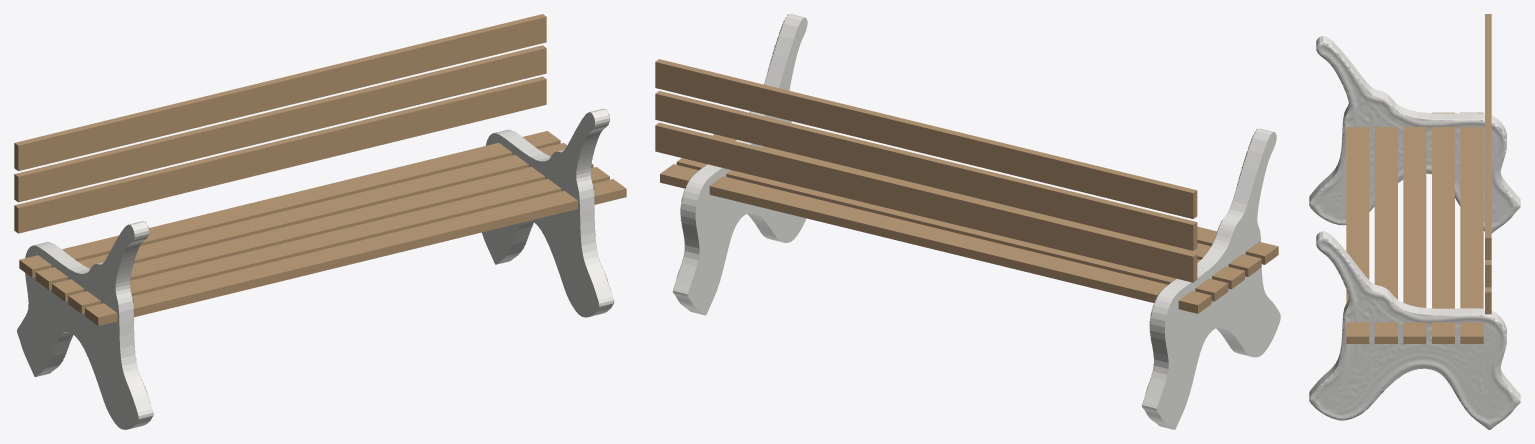
File: terilgan.glb
3 views of the same model, side by side, from view 1: azimuth 30°, elevation 25°; view 2: azimuth 150°, elevation 25°; view 3: azimuth 270°, elevation 25° (orthographic). The views are drawn at different scales.
Parts seen in each view (by area): view 1: Orqa2, Orqa0, Orqa1, t-1, Sed0, t1, Sed1, Sed4, Sed3, Sed2; view 2: Orqa0, Orqa1, Orqa2, t-1, Sed4, t1, Sed3, Sed1, Sed0; view 3: t1, t-1, Sed4, Sed2, Sed3, Sed1, Sed0, Orqa2.
Boxes of the visible parts, left/top/right/bottom form: Orqa2: left=14, top=14, right=546, bottom=171; Orqa0: left=14, top=76, right=546, bottom=233; Orqa1: left=14, top=45, right=546, bottom=202; t-1: left=17, top=221, right=153, bottom=429; Sed0: left=85, top=179, right=626, bottom=325; t1: left=482, top=108, right=614, bottom=317; Sed1: left=68, top=167, right=609, bottom=313; Sed4: left=19, top=131, right=560, bottom=277; Sed3: left=35, top=143, right=567, bottom=289; Sed2: left=52, top=163, right=593, bottom=301; Orqa0: left=655, top=122, right=1197, bottom=282; Orqa1: left=655, top=91, right=1197, bottom=250; Orqa2: left=655, top=59, right=1197, bottom=218; t-1: left=1142, top=128, right=1280, bottom=429; Sed4: left=660, top=164, right=1211, bottom=313; t1: left=673, top=14, right=807, bottom=315; Sed3: left=676, top=158, right=1228, bottom=301; Sed1: left=713, top=134, right=1261, bottom=276; Sed0: left=1197, top=226, right=1278, bottom=264; t1: left=1309, top=231, right=1520, bottom=429; t-1: left=1309, top=36, right=1520, bottom=233; Sed4: left=1460, top=112, right=1483, bottom=343; Sed2: left=1403, top=127, right=1426, bottom=343; Sed3: left=1432, top=112, right=1454, bottom=343; Sed1: left=1374, top=127, right=1397, bottom=343; Sed0: left=1346, top=127, right=1369, bottom=343; Orqa2: left=1485, top=14, right=1491, bottom=259.
Bounding box in the file's own units: 1.95 × 0.8385 × 0.7784.
